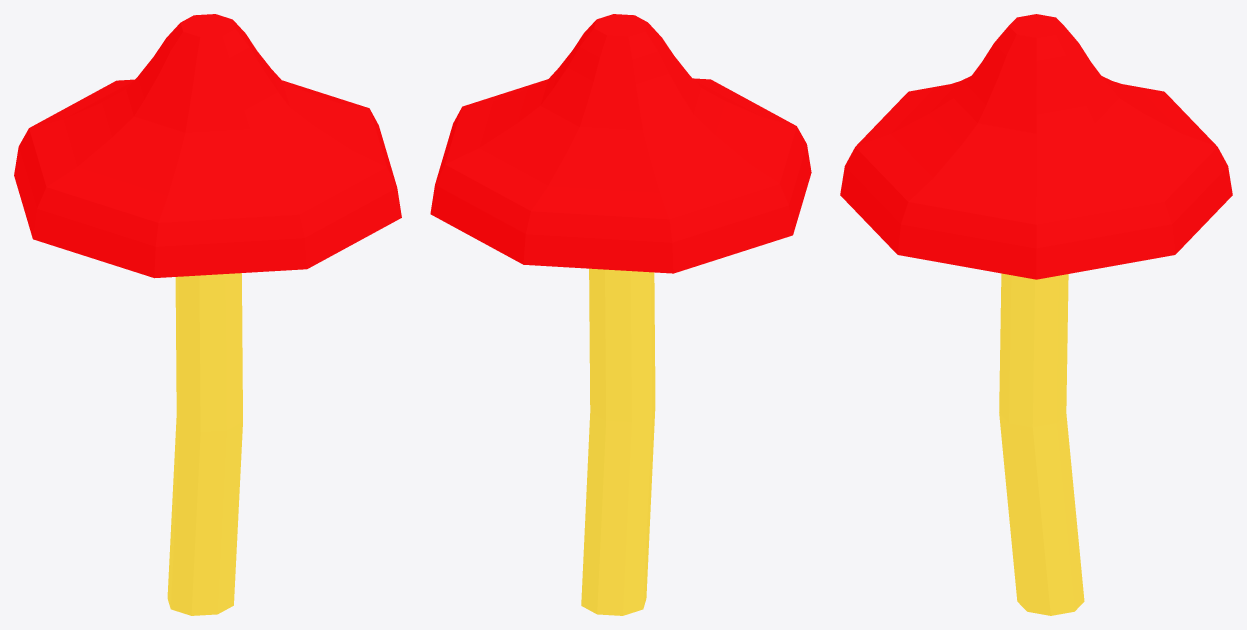
The model's file is shroom2.fbx.
3 renders of one model, left to right at view 1: azimuth 30°, elevation 25°; view 2: azimuth 150°, elevation 25°; view 3: azimuth 270°, elevation 25°, orthographic.
Parts seen in each view (by area): view 1: Cylinder; view 2: Cylinder; view 3: Cylinder.
Part boxes in pixels (x1,y1,x2,y2): Cylinder: (14,14,401,615); Cylinder: (430,14,811,615); Cylinder: (840,14,1232,615).
Size of the model in its own units: 503 by 799 by 494.
